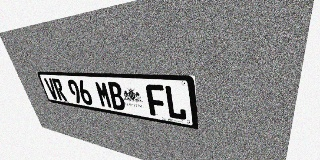6: (76, 80, 94, 106)
9: (66, 79, 84, 104)
B: (106, 82, 126, 111)
F: (145, 84, 167, 118)
L: (164, 85, 187, 121)
M: (94, 81, 113, 109)
R: (51, 78, 68, 101)
V: (44, 78, 59, 100)
